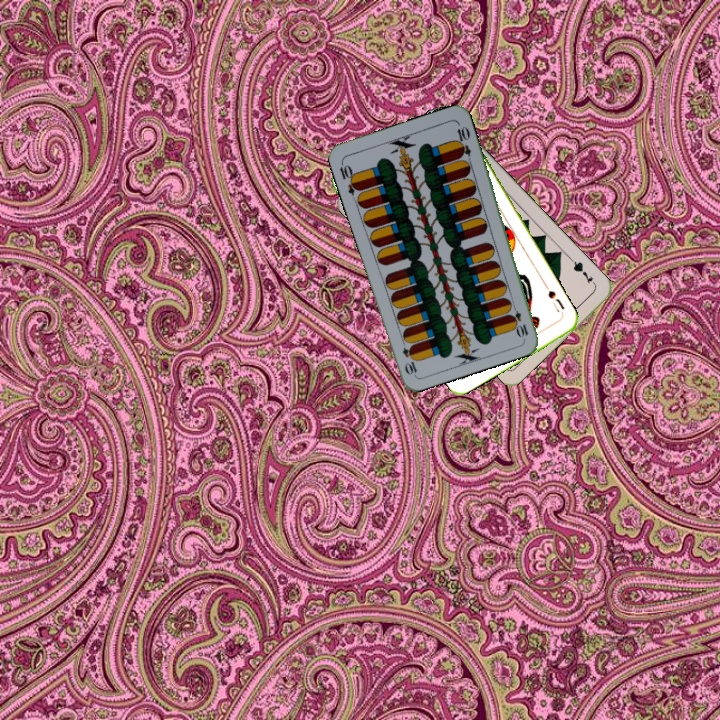E10: (335, 158, 363, 197), (507, 300, 531, 340)
G7: (567, 255, 598, 288)
SU: (541, 281, 567, 319)
